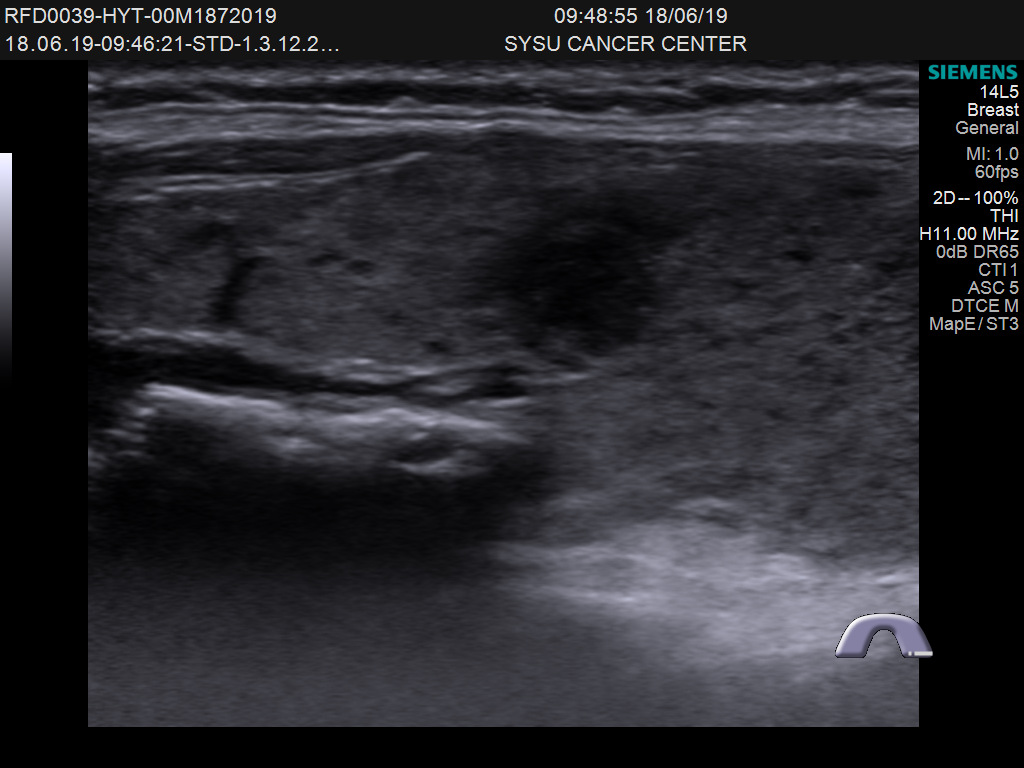Thyroid_tumor: (499, 160, 710, 373)
